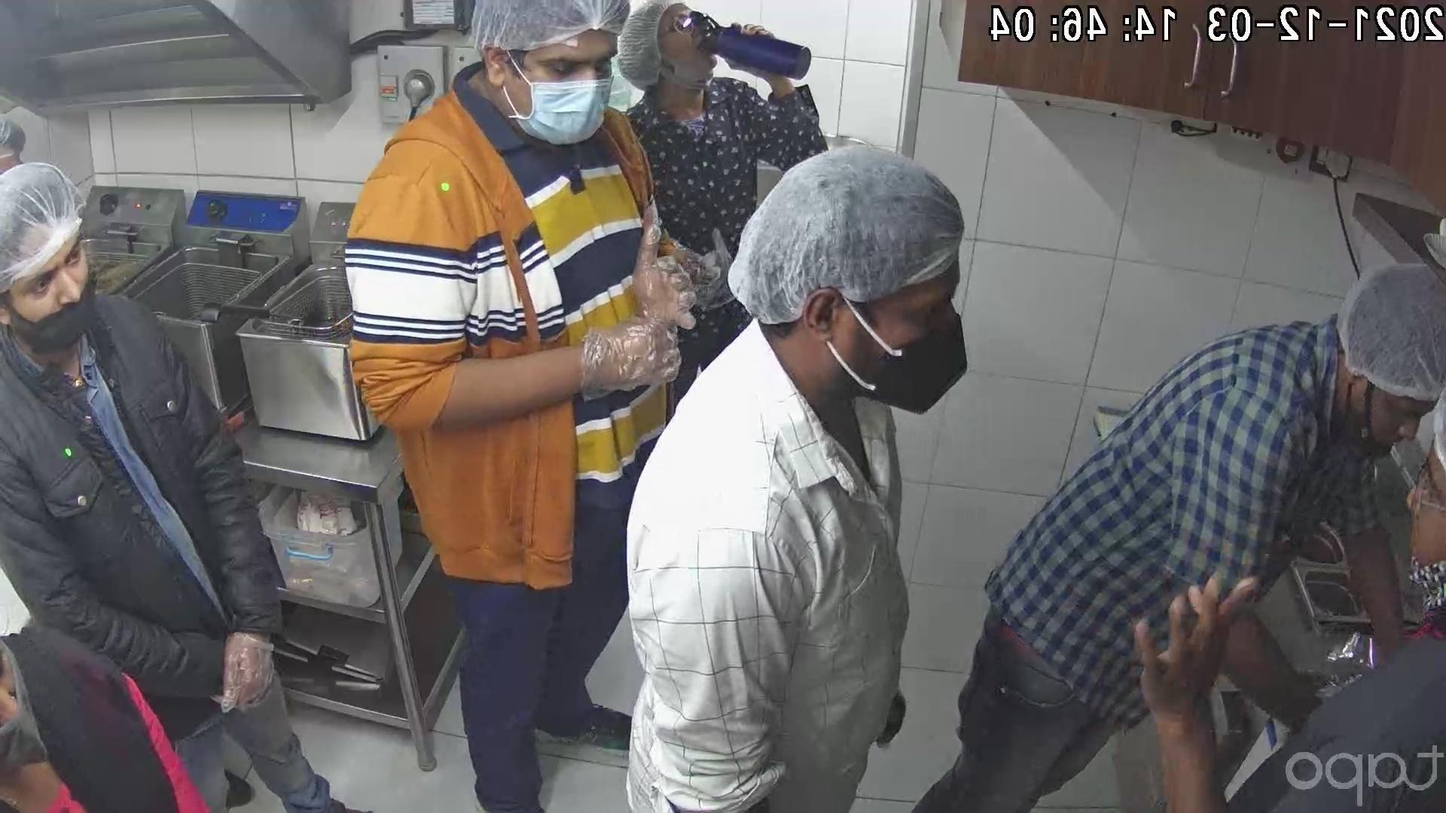apron: (563, 312, 689, 416), (202, 603, 292, 743), (603, 219, 709, 327)
gloves: (726, 129, 980, 319), (1316, 239, 1446, 404), (0, 131, 98, 292), (465, 0, 636, 76), (634, 0, 692, 88)
mask: (819, 285, 972, 419), (487, 58, 624, 156)
no_apron: (1106, 588, 1267, 749), (729, 0, 805, 95)
no_hairnet: (1338, 364, 1441, 460), (1381, 493, 1445, 612), (6, 276, 102, 355), (643, 22, 728, 99)
